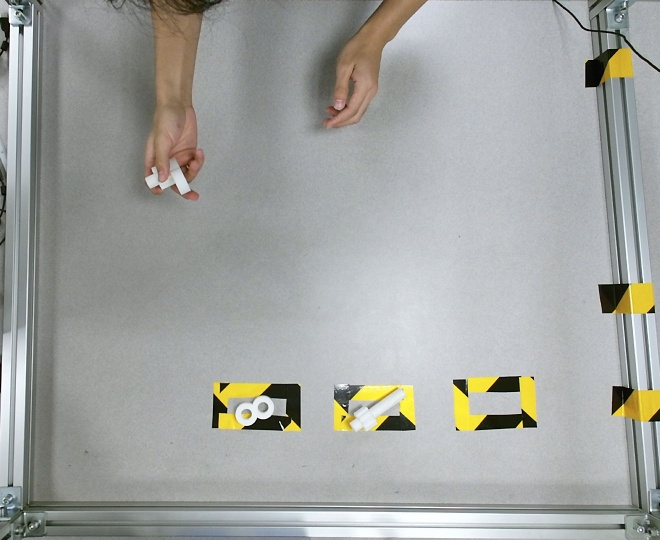stage_2: (146, 159, 192, 196)
